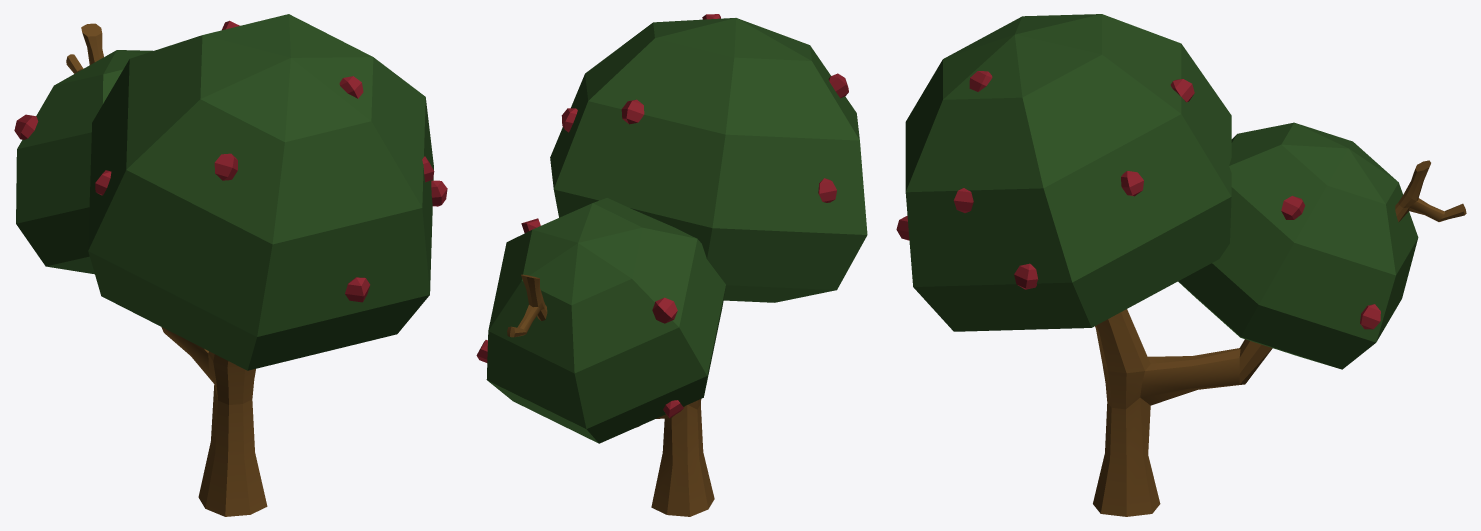
3 views of the same model, side by side, from view 1: azimuth 30°, elevation 25°; view 2: azimuth 150°, elevation 25°; view 3: azimuth 270°, elevation 25° (orthographic). The views are drawn at different scales.
Visible parts, largest first — view 1: trunk3; view 2: trunk3; view 3: trunk3.
Boxes of the visible parts, <box> form: trunk3: <box>14,14,447,516</box>; trunk3: <box>476,14,867,516</box>; trunk3: <box>896,14,1466,516</box>.
Size of the model in its own units: 2.77 by 3.73 by 4.1.
